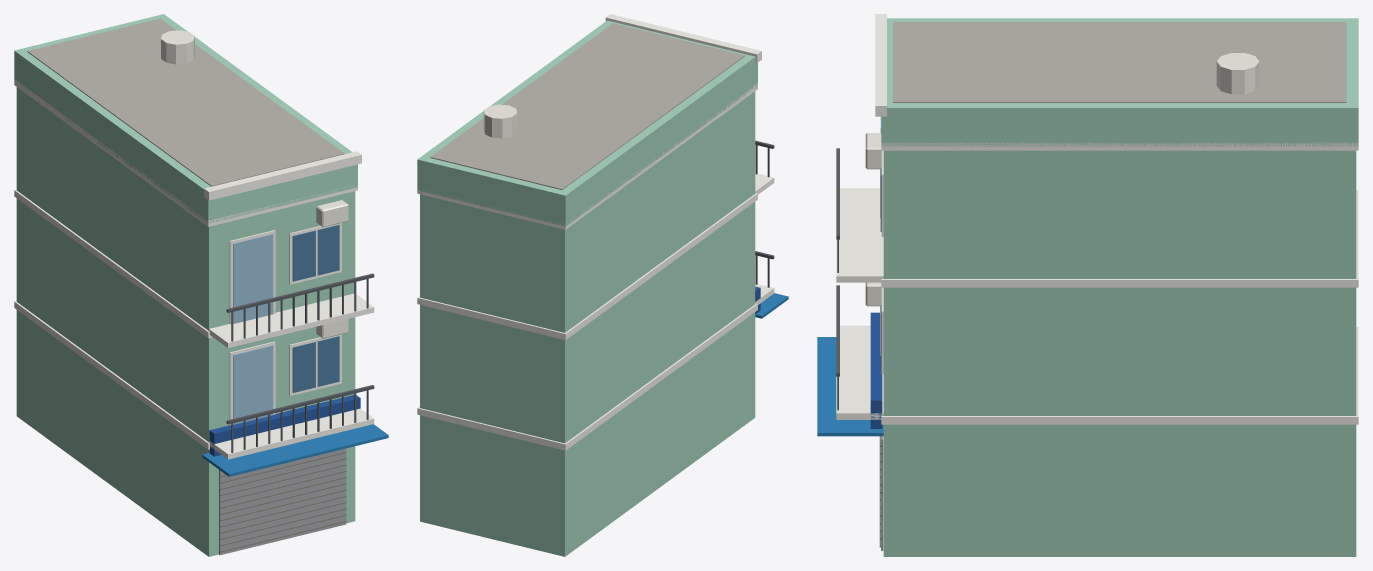
File: BLD_Shophouse_Mint.fbx
3 renders of one model, left to right at view 1: azimuth 30°, elevation 25°; view 2: azimuth 150°, elevation 25°; view 3: azimuth 270°, elevation 25°, orthographic. The views are drawn at different scales.
Parts seen in each view (by area): view 1: BLD_Shophouse_Mint; view 2: BLD_Shophouse_Mint; view 3: BLD_Shophouse_Mint.
Part boxes in pixels (box(x1,y1,x2,y2)): BLD_Shophouse_Mint: box(14, 14, 388, 556); BLD_Shophouse_Mint: box(417, 14, 788, 556); BLD_Shophouse_Mint: box(817, 14, 1358, 556).
Size of the model in its own units: 4.8 by 11.1 by 11.45.
